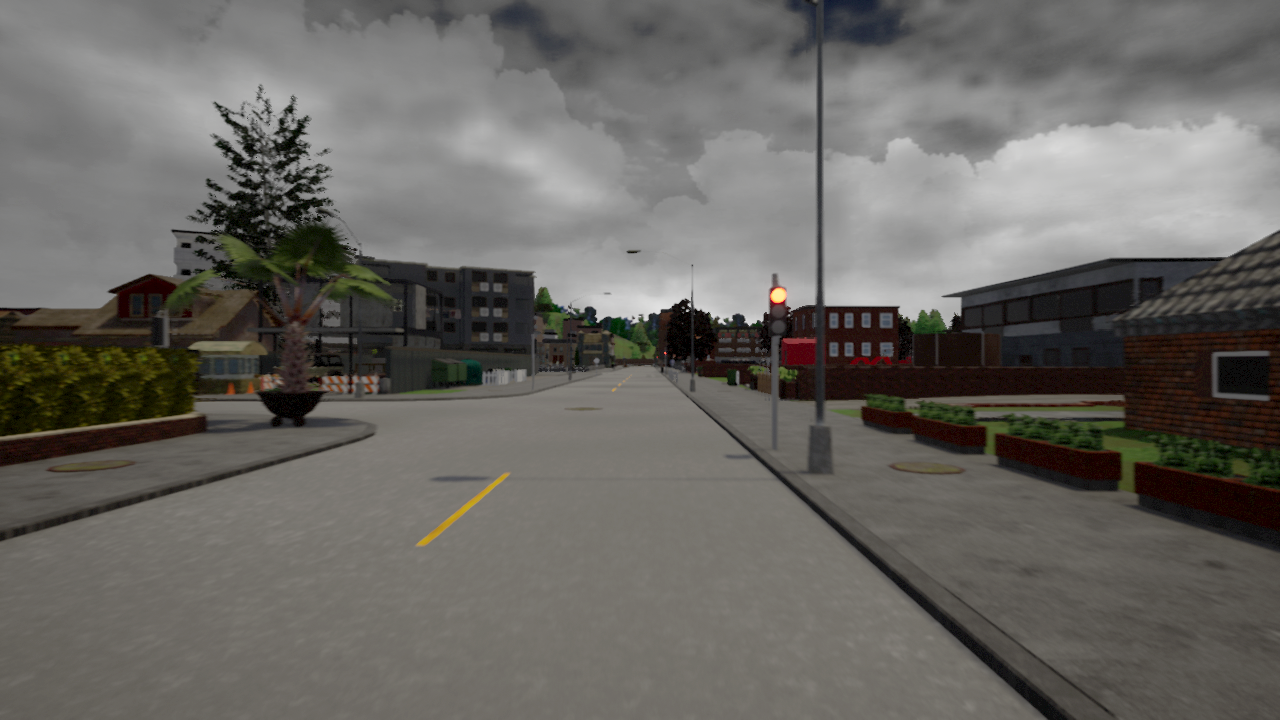red: (767, 286, 789, 337)
